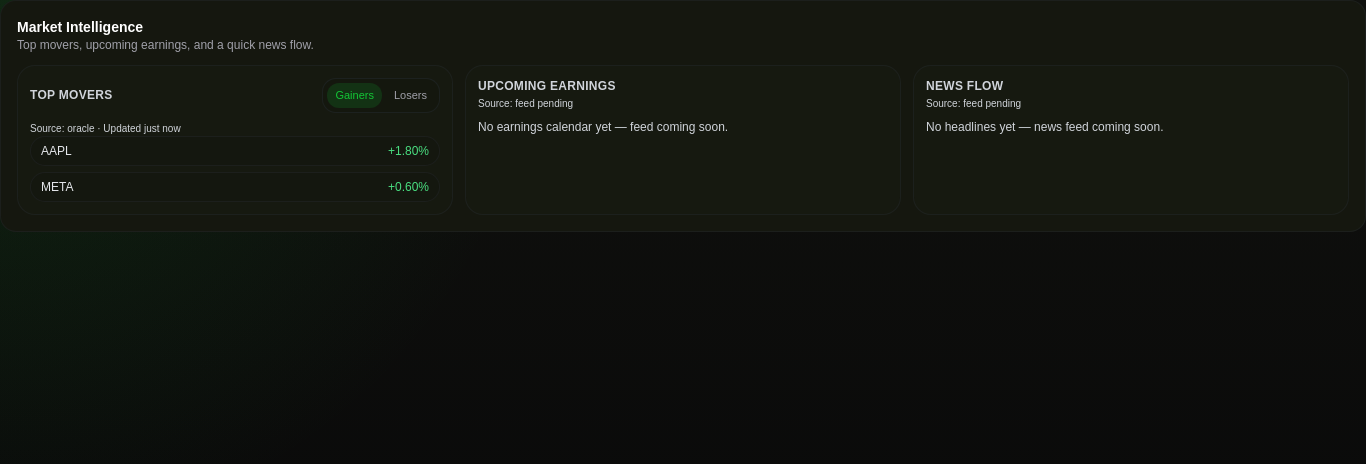
Scenario: MarketIntelligencePanel › task 0028 — Top Movers honest source attribution › oracle live, gainers present but no losers → Losers tab renders explicit empty state, not Gainers list
The width and height of the screenshot is (1366, 464).
Click the button "Losers": (410, 95) top-left (386, 83), bottom-right (435, 108)
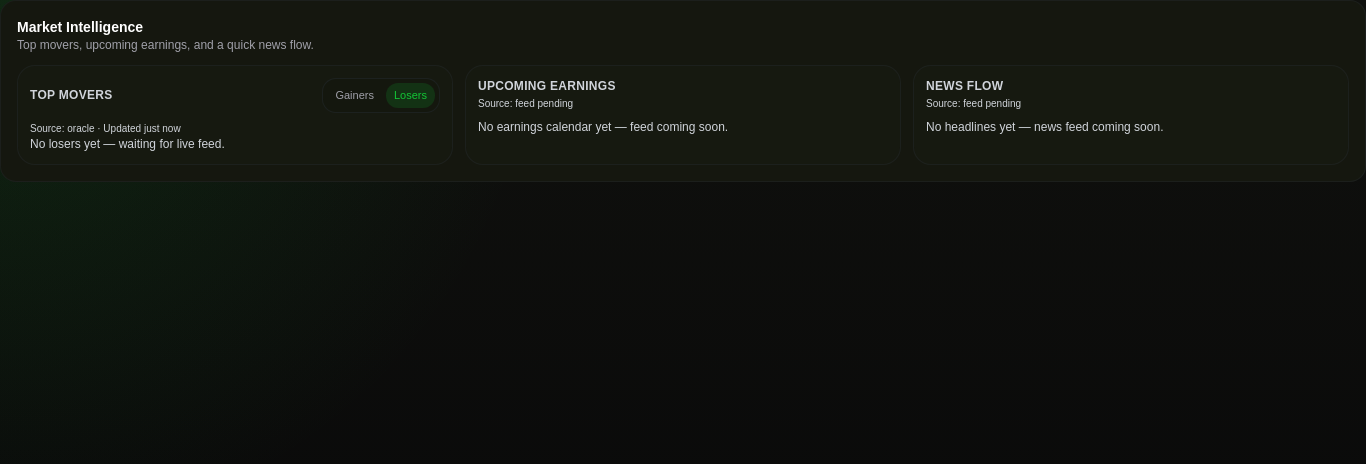
Now the text with test id "top-movers-empty-losers" shows "No losers yet", box top-left (30, 136), bottom-right (225, 150)
